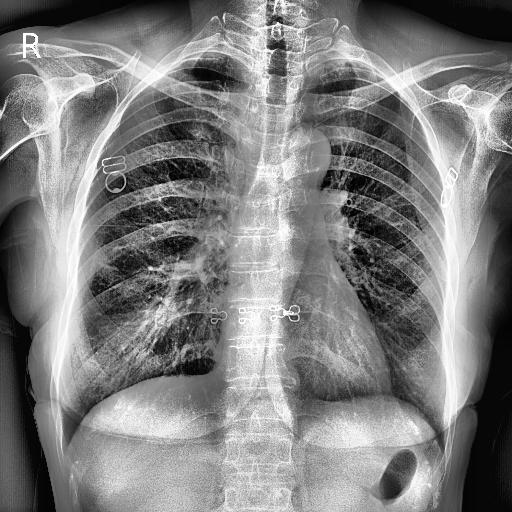0- Aortic enlargement: (286, 124, 332, 175)
11- Pleural thickening: (321, 48, 404, 98), (320, 54, 396, 82), (150, 44, 228, 70), (180, 45, 240, 62), (171, 51, 227, 69), (310, 58, 376, 72)
